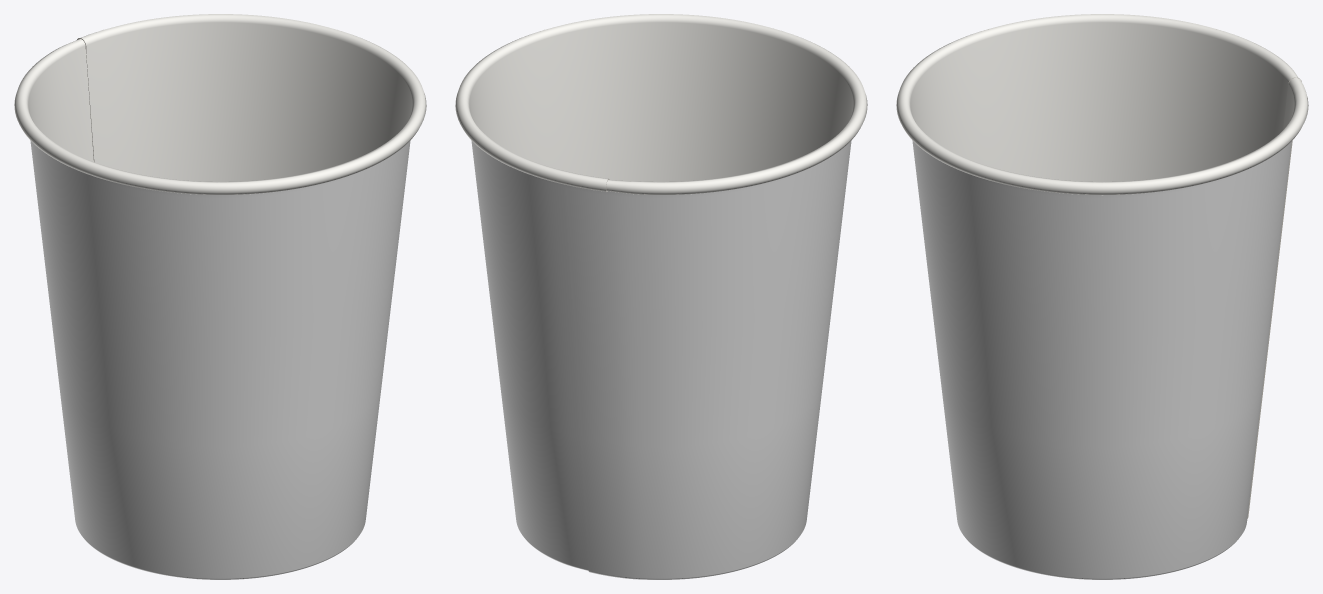
3 views of the same model, side by side, from view 1: azimuth 30°, elevation 25°; view 2: azimuth 150°, elevation 25°; view 3: azimuth 270°, elevation 25° (orthographic).
Visible parts, largest first — view 1: Cup_Wall; view 2: Cup_Wall; view 3: Cup_Wall.
Part boxes in pixels (x1,y1,x2,y2): Cup_Wall: (14,14,426,579); Cup_Wall: (455,14,867,579); Cup_Wall: (896,14,1308,579).
Bounding box in the file's own units: 0.0719 × 0.0811 × 0.0719.
Materials: 3 (1 with a texture image).
